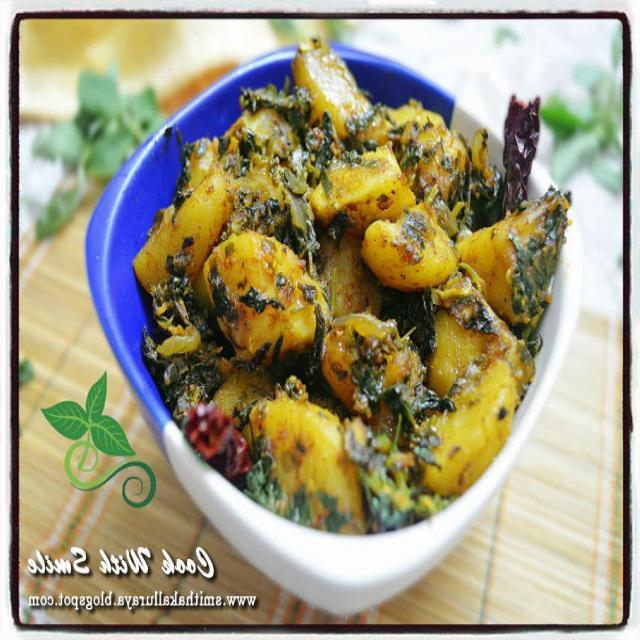Aloo Methi: (140, 32, 576, 464)
